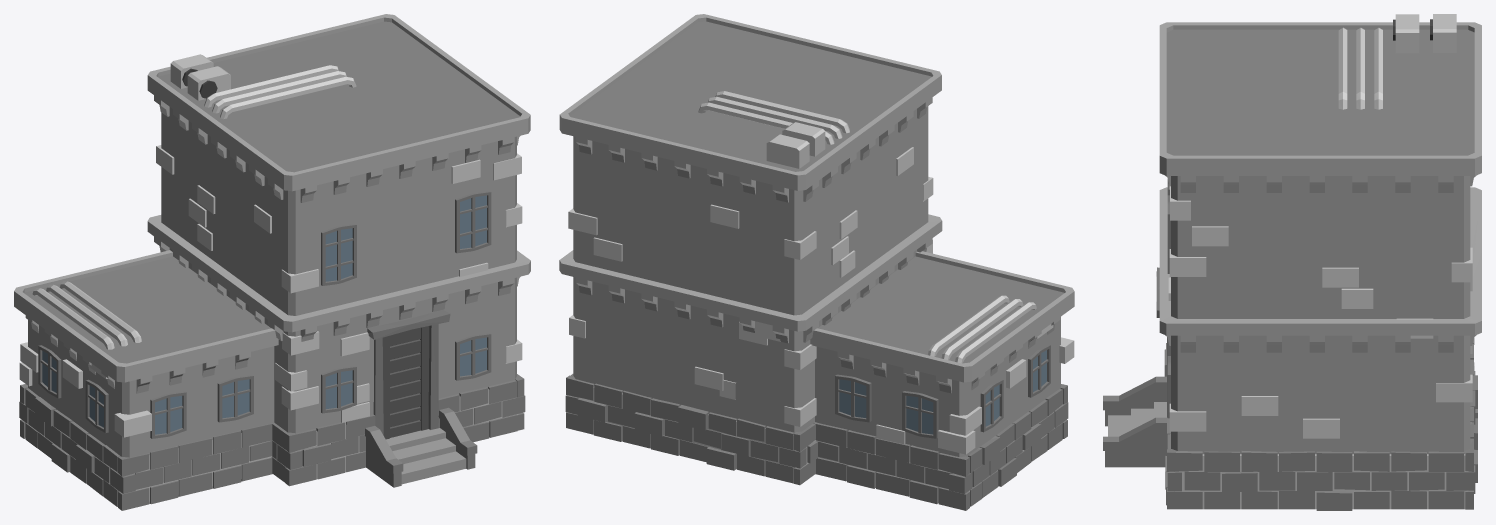
File: qtb_2story_sidehouse.fbx
3 views of the same model, side by side, from view 1: azimuth 30°, elevation 25°; view 2: azimuth 150°, elevation 25°; view 3: azimuth 270°, elevation 25° (orthographic). The views are drawn at different scales.
Parts seen in each view (by area): view 1: qtb_2story_sidehouse_LOD0; view 2: qtb_2story_sidehouse_LOD0; view 3: qtb_2story_sidehouse_LOD0.
Boxes of the visible parts, <box> form: qtb_2story_sidehouse_LOD0: <box>14,14,530,510</box>; qtb_2story_sidehouse_LOD0: <box>559,14,1074,510</box>; qtb_2story_sidehouse_LOD0: <box>1103,14,1481,510</box>.
Size of what is drawn, in the model's own units: 9.36 by 7.44 by 6.84.
Materials: 1 (1 with a texture image).
